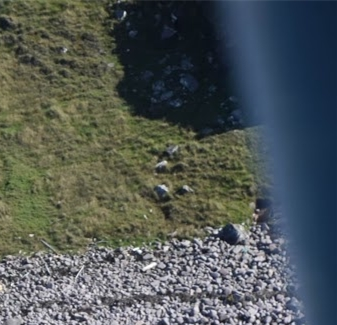white_in_green: (129, 248, 171, 284)
